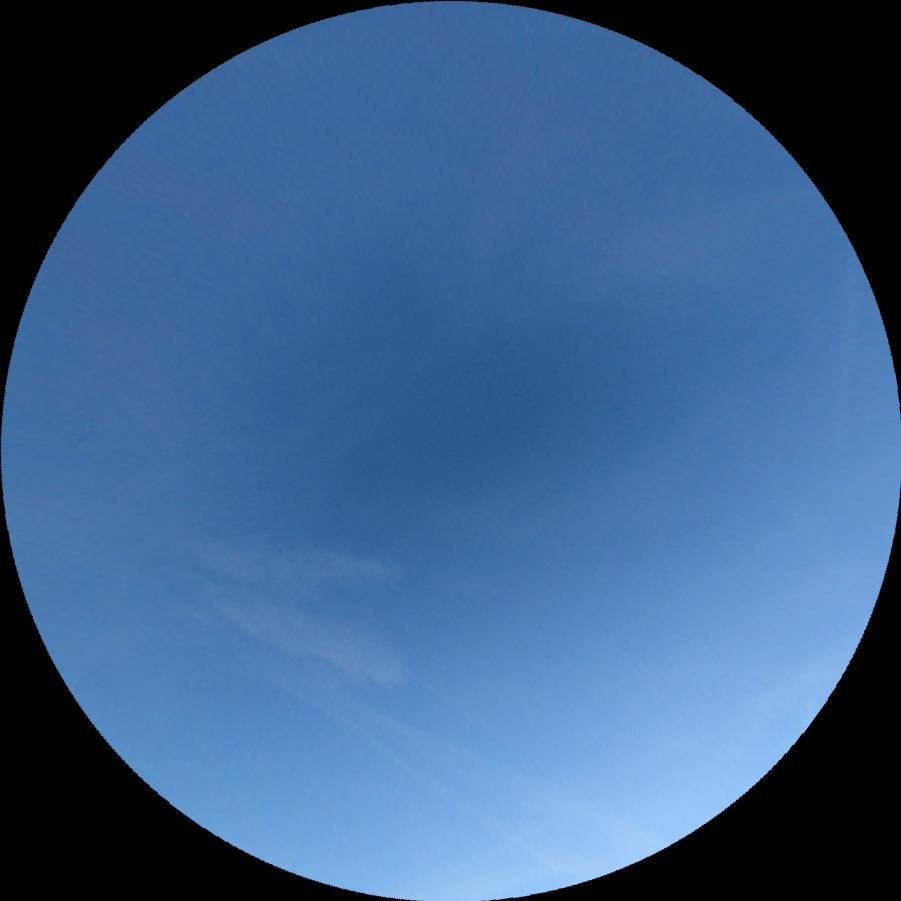unknow: (121, 589, 648, 899), (822, 284, 868, 454)
